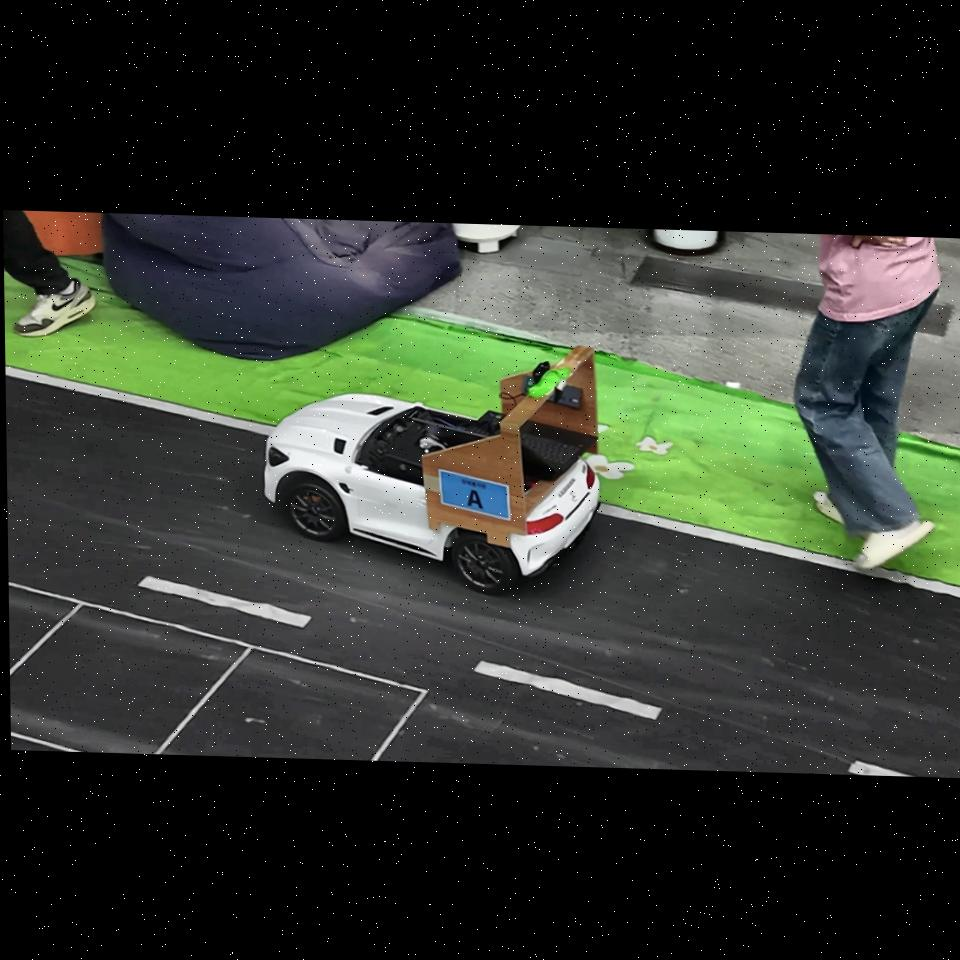broken_line: (473, 660, 664, 720), (138, 576, 312, 628), (849, 761, 913, 776)
